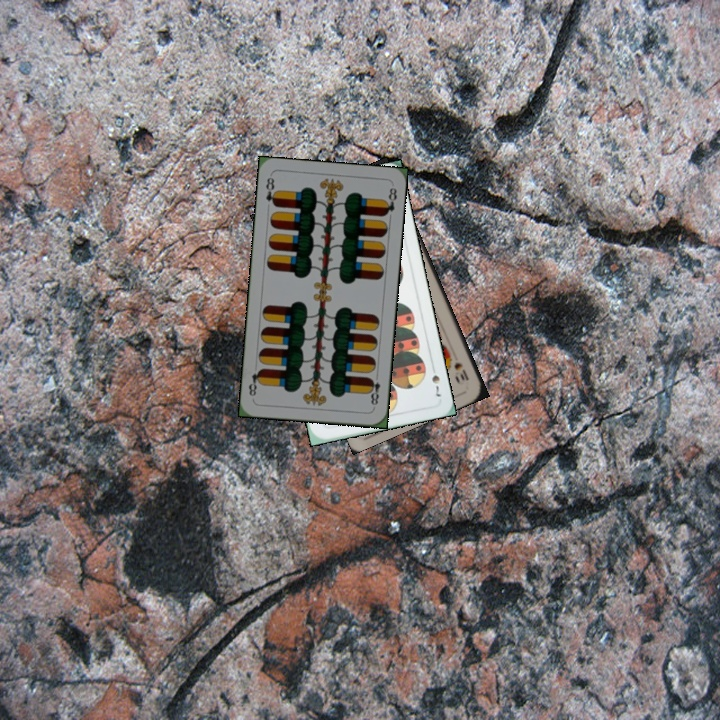E8: (365, 370, 383, 410), (262, 173, 280, 209)
S10: (450, 358, 472, 383)
S7: (428, 370, 444, 399)
